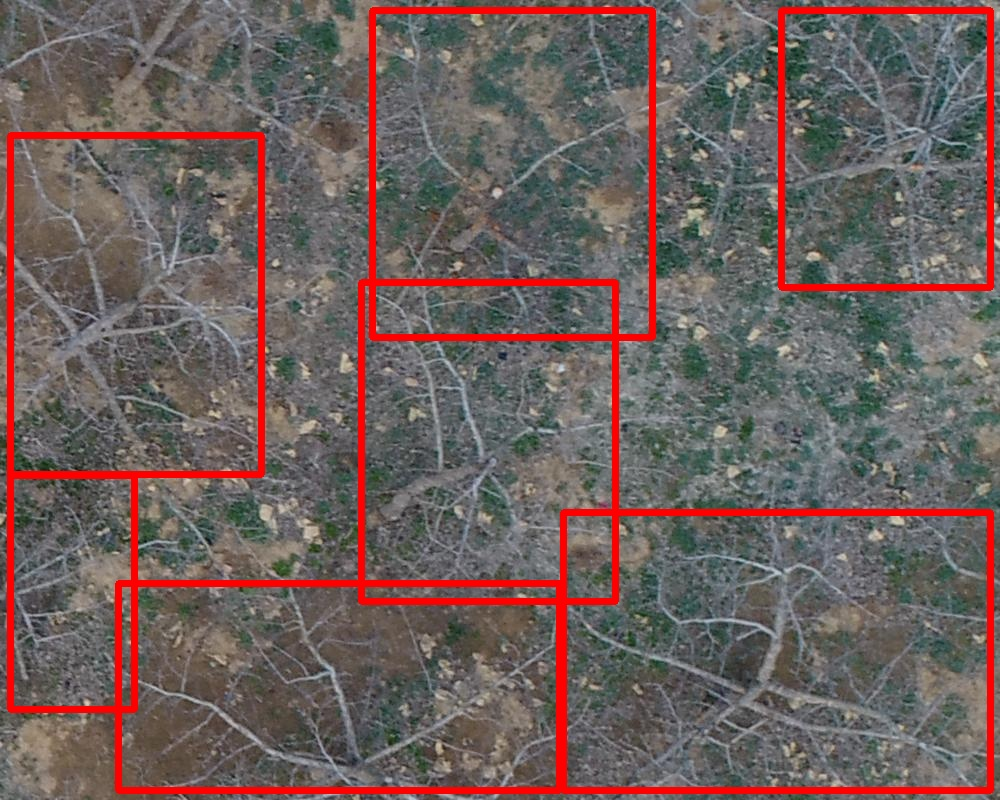apple: (563, 512, 990, 790), (372, 10, 652, 337), (118, 583, 559, 790), (10, 135, 261, 474), (361, 282, 615, 601), (781, 10, 990, 287), (10, 475, 134, 709)
